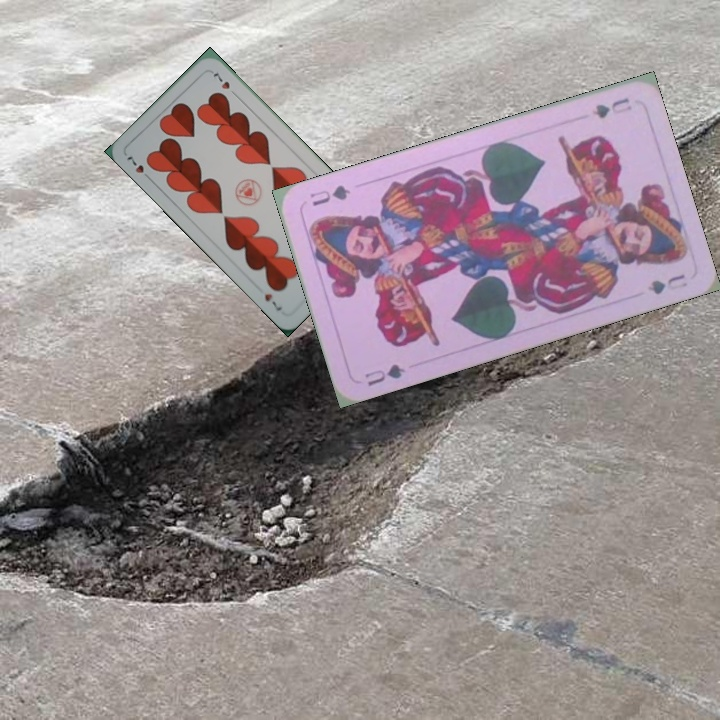GU: (360, 359, 408, 389), (588, 93, 635, 121)
H7: (122, 152, 155, 183)
